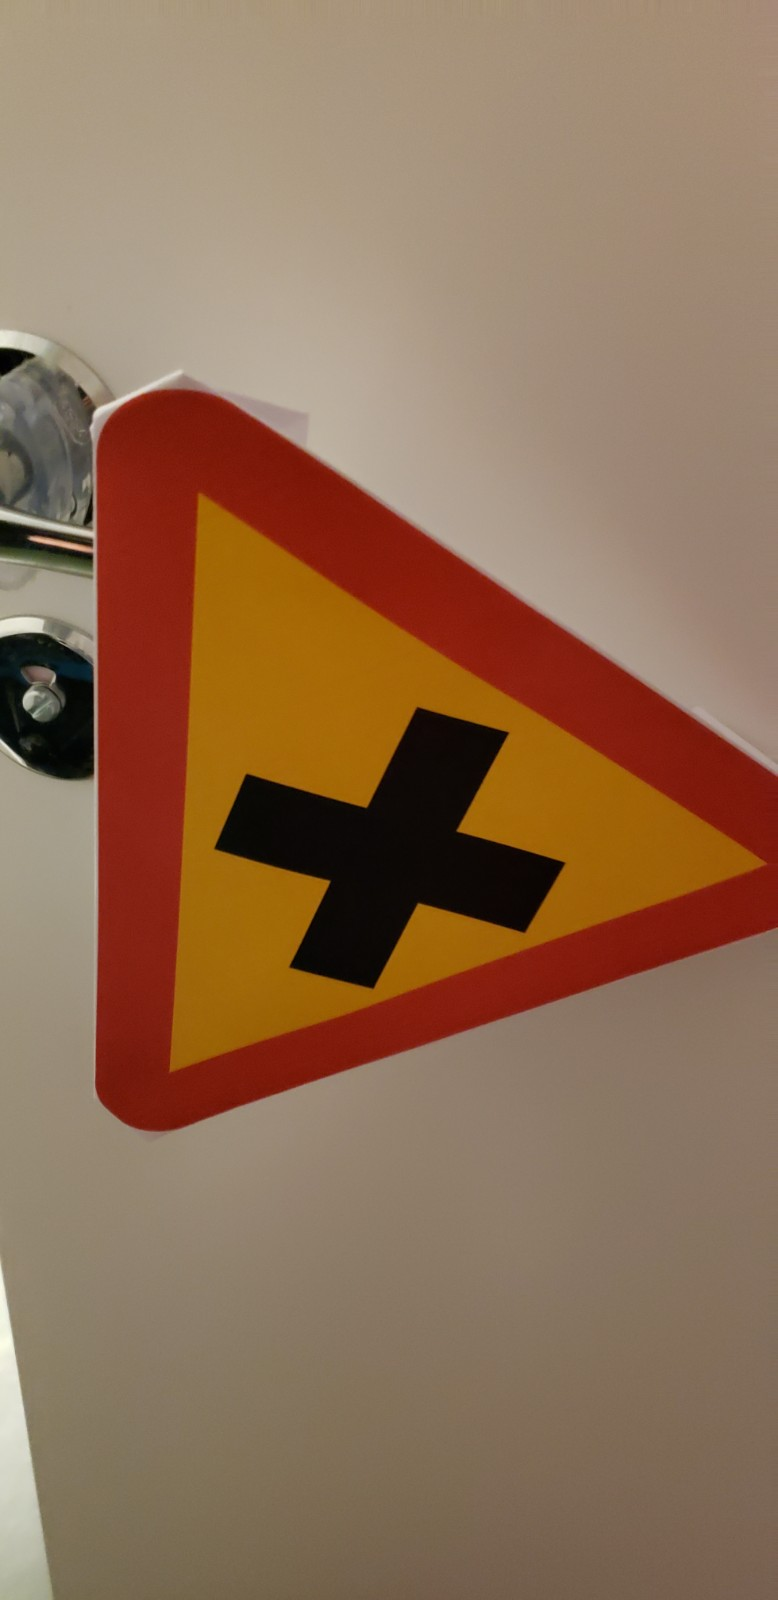junction: (63, 344, 778, 1157)
